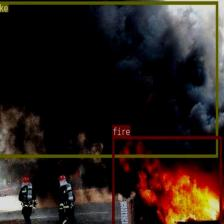fire: (111, 135, 222, 224)
smoke: (0, 1, 218, 157)
